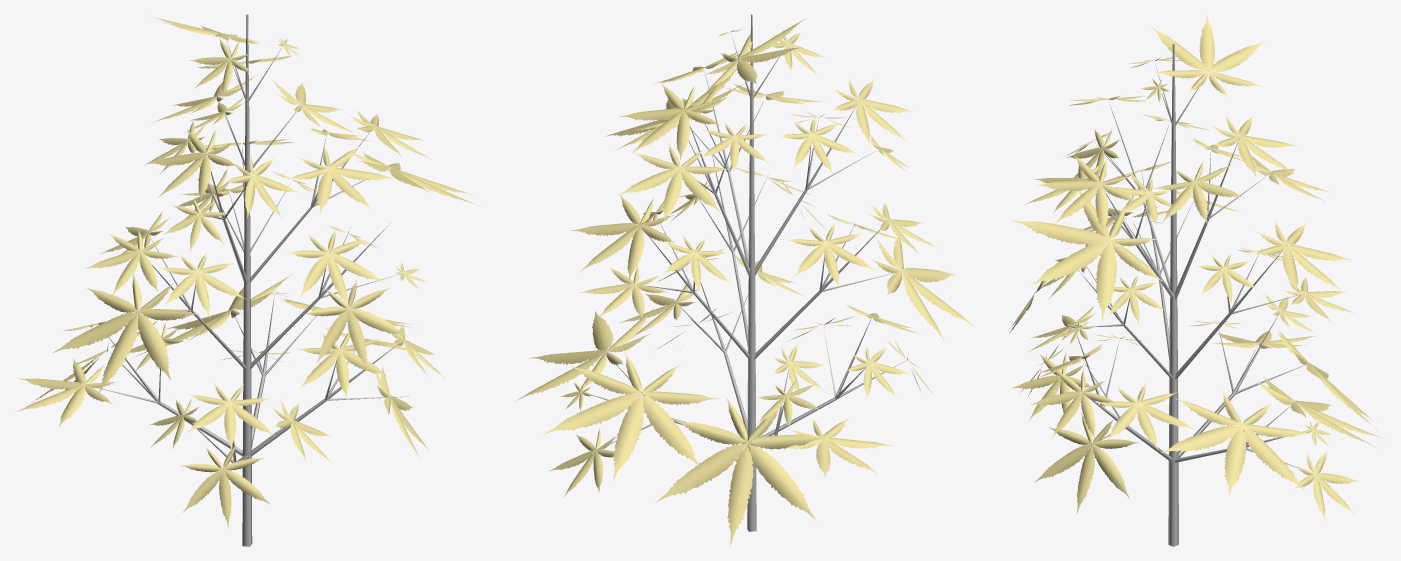
File: plc0012-student-Cannabis.glb
The picture shows the model from 3 angles, left to right: view 1: azimuth 30°, elevation 25°; view 2: azimuth 150°, elevation 25°; view 3: azimuth 270°, elevation 25°; orthographic projection. The views are drawn at different scales.
Visible parts, largest first — view 1: Cannabis; view 2: Cannabis; view 3: Cannabis.
Part boxes in pixels (x1,y1,x2,y2): Cannabis: (16, 14, 478, 546); Cannabis: (516, 14, 974, 546); Cannabis: (1009, 15, 1382, 546).
Size of the model in its own units: 94.28 by 120 by 83.09.
